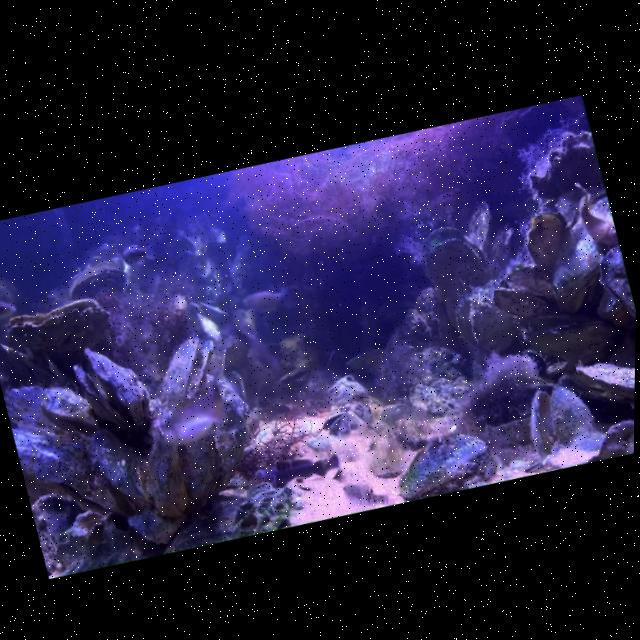Oyster-Closed: (531, 185, 634, 317), (2, 288, 114, 359), (163, 391, 233, 504), (128, 404, 197, 518), (524, 306, 627, 381), (0, 322, 62, 401), (517, 203, 579, 277), (572, 345, 635, 417)
Oyster-Indeterminate: (10, 402, 135, 540), (196, 364, 265, 479), (84, 419, 157, 521), (27, 485, 94, 572), (36, 376, 100, 444), (488, 274, 554, 329), (462, 197, 502, 256)
Oyster-Open: (66, 333, 159, 450), (519, 376, 604, 468), (149, 329, 228, 410), (411, 218, 479, 300), (61, 253, 131, 308), (319, 407, 359, 439)
